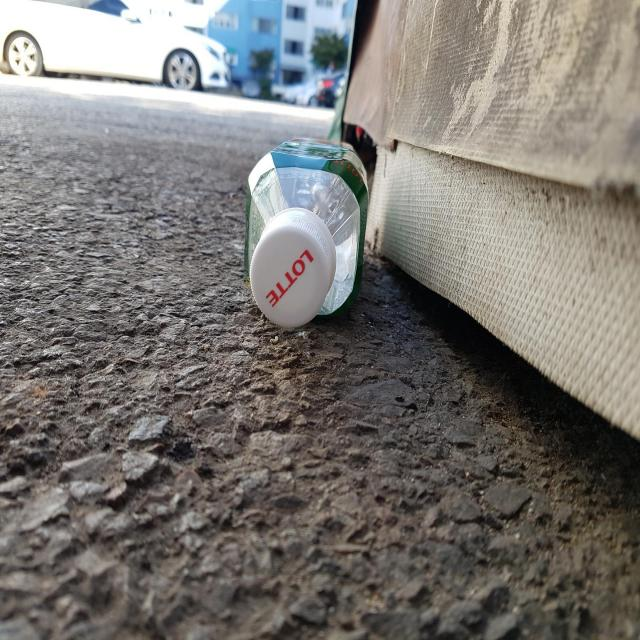plastic: (244, 139, 369, 328)
